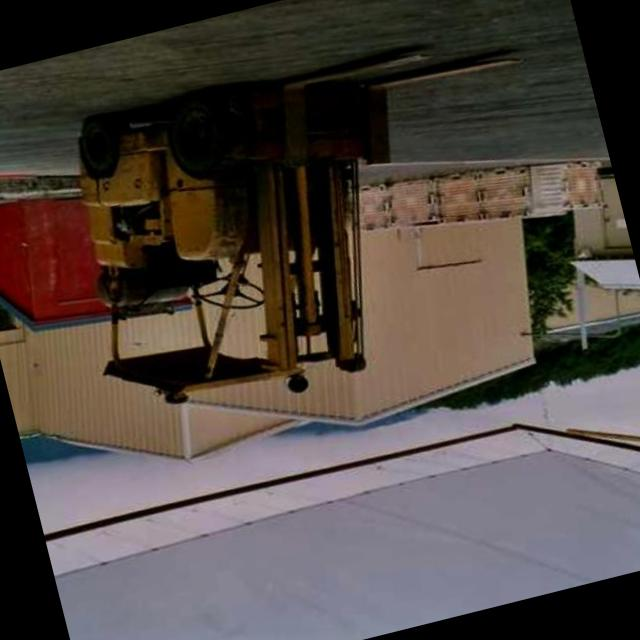forklift: (1, 0, 608, 495)
